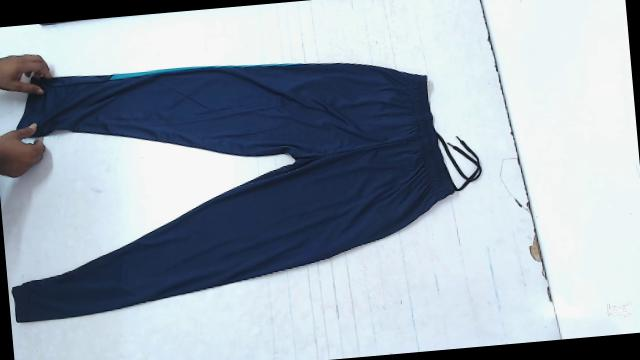new-garment: (13, 63, 481, 322)
